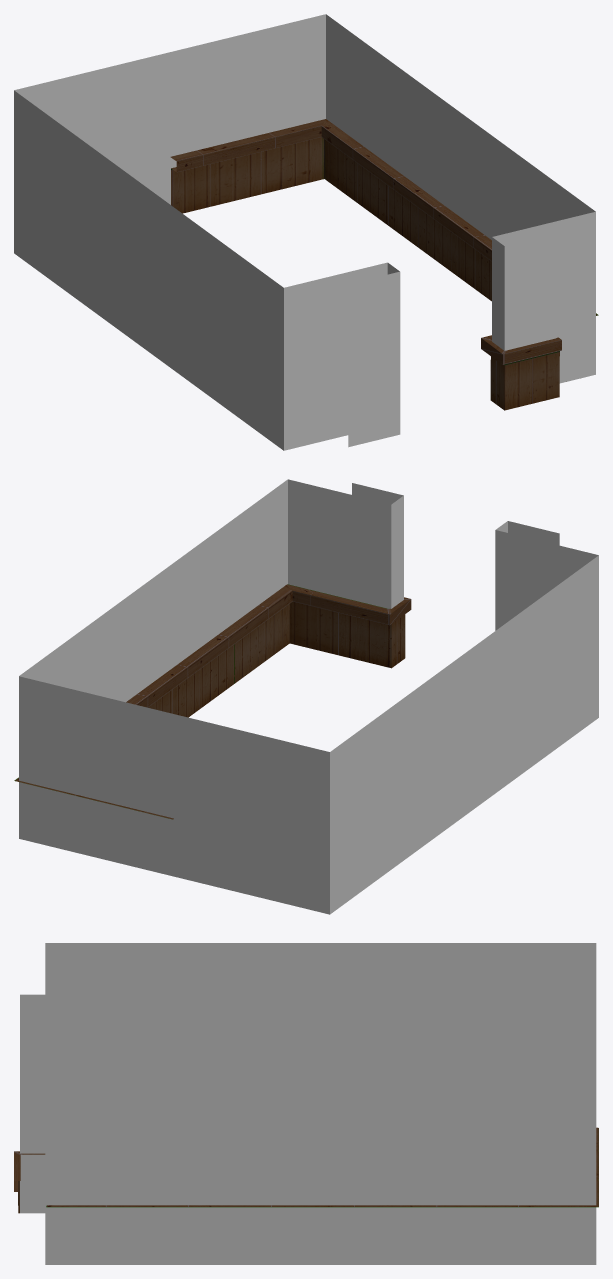
File: room_Small.FBX
3 views of the same model, one above another, from view 1: azimuth 30°, elevation 25°; view 2: azimuth 150°, elevation 25°; view 3: azimuth 270°, elevation 25° (orthographic). The views are drawn at different scales.
Parts seen in each view (by area): view 1: Box001, Box003; view 2: Box001, Box003; view 3: Box001, Box003.
Boxes of the visible parts, x1,y1,x2,y2 form: Box001: (14, 14, 595, 450); Box003: (170, 119, 598, 410); Box001: (19, 479, 598, 914); Box003: (14, 584, 411, 819); Box001: (20, 943, 596, 1264); Box003: (14, 1127, 598, 1213).
Size of the model in its own units: 258 by 128 by 406.
